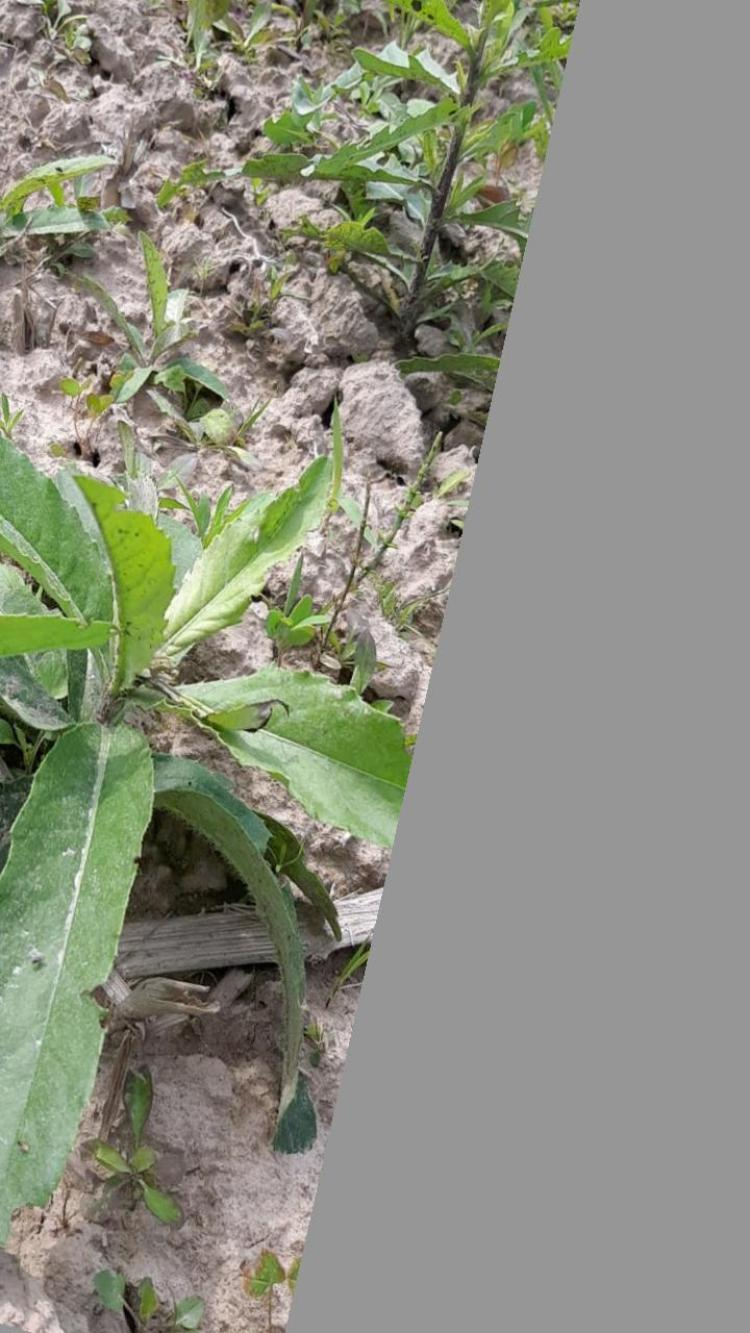osot: (0, 442, 415, 1314)
